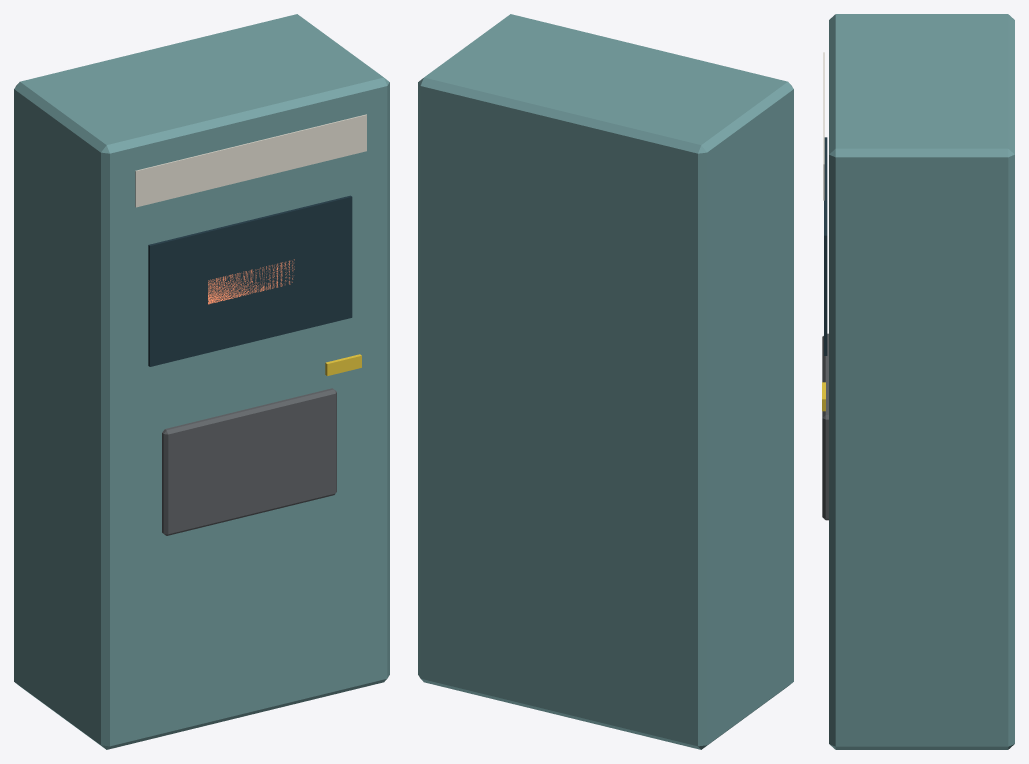
The model's file is food_dispenser.glb.
3 renders of one model, left to right at view 1: azimuth 30°, elevation 25°; view 2: azimuth 150°, elevation 25°; view 3: azimuth 270°, elevation 25°, orthographic.
Parts seen in each view (by area): view 1: food_dispenser; view 2: food_dispenser; view 3: food_dispenser.
Boxes of the visible parts, left/top/right/bottom form: food_dispenser: left=14, top=14, right=389, bottom=749; food_dispenser: left=418, top=14, right=793, bottom=749; food_dispenser: left=822, top=14, right=1014, bottom=749.
Size of the model in its own units: 1 by 2 by 0.581.
